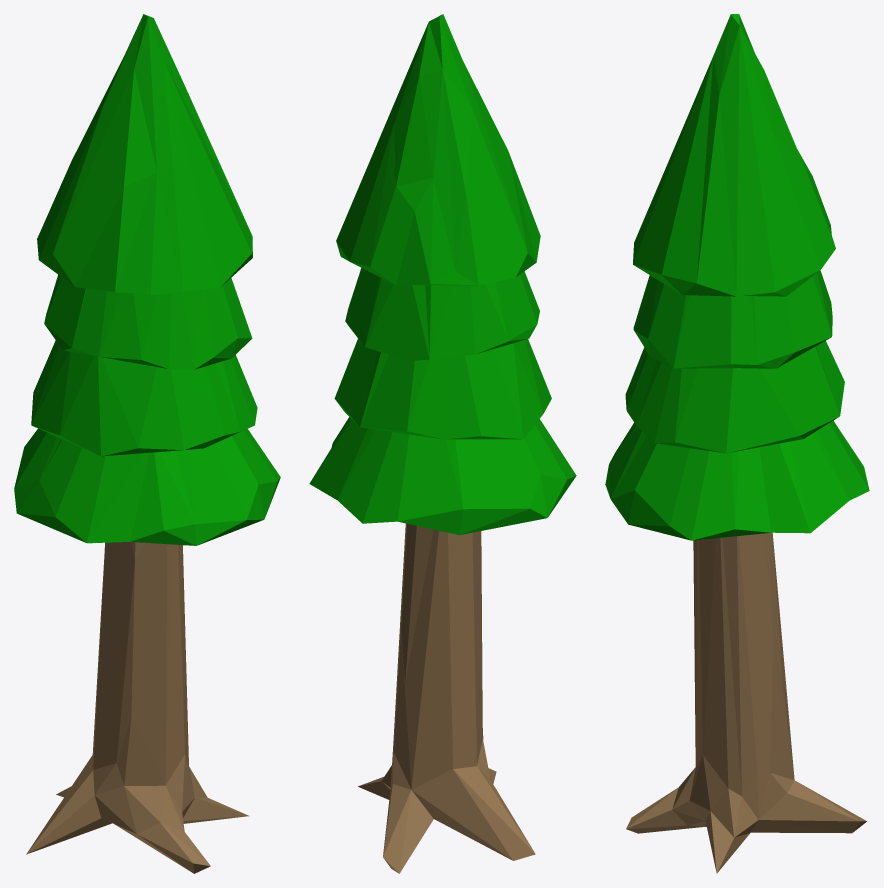
The model's file is Nadelbaum1_Mesh_LOD.fbx.
3 renders of one model, left to right at view 1: azimuth 30°, elevation 25°; view 2: azimuth 150°, elevation 25°; view 3: azimuth 270°, elevation 25°, orthographic. The views are drawn at different scales.
Parts seen in each view (by area): view 1: NadelBaum1_LOD0; view 2: NadelBaum1_LOD0; view 3: NadelBaum1_LOD0.
Part boxes in pixels (x1,y1,x2,y2): NadelBaum1_LOD0: (14,14,280,873); NadelBaum1_LOD0: (309,14,576,873); NadelBaum1_LOD0: (605,14,869,873).
Size of what is drawn, in the model's own units: 43.7 by 149 by 43.28.
